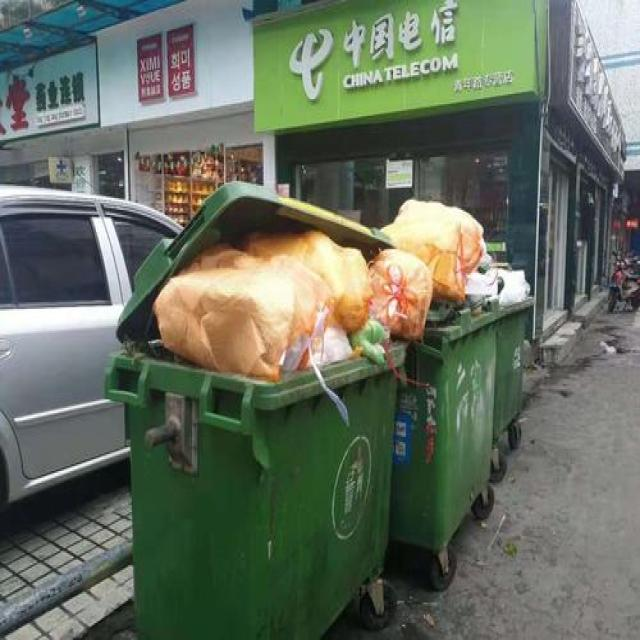overflow: (102, 179, 406, 638), (390, 200, 502, 548), (490, 265, 532, 442)
